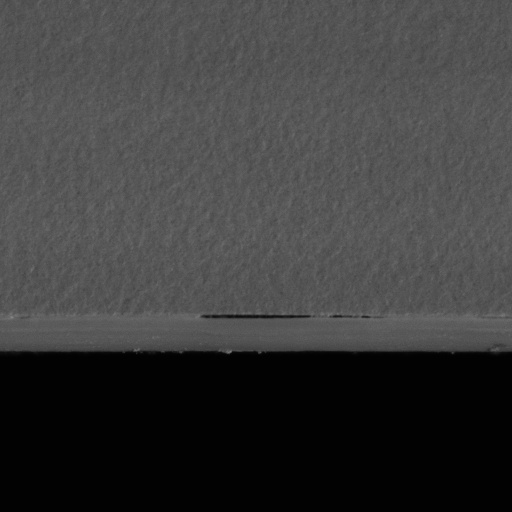jiaofeng: (196, 310, 373, 336)
